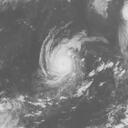cyclone: (37, 22, 96, 94)
